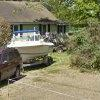Tree: (55, 2, 100, 71)
